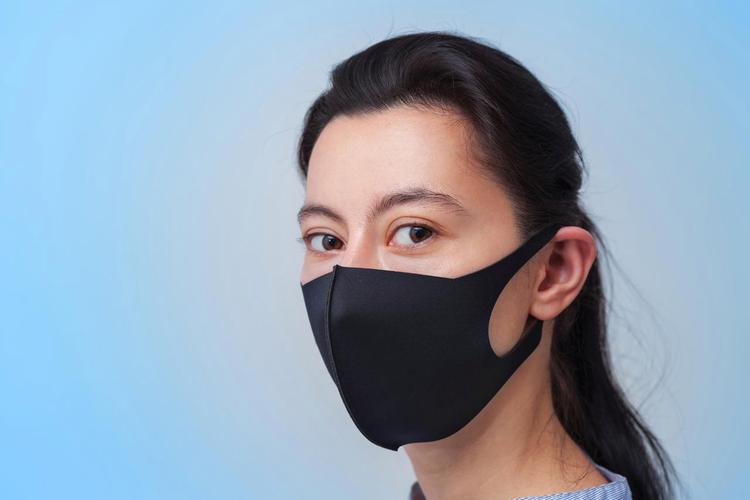mask: (304, 108, 551, 445)
